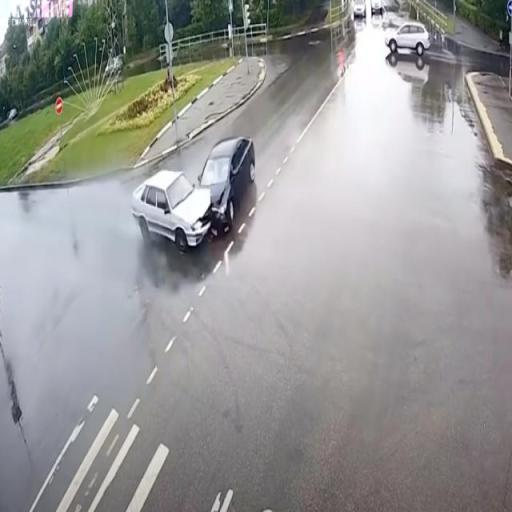小汽车: (385, 20, 432, 56)
小汽车撞小汽车: (131, 136, 254, 249)
